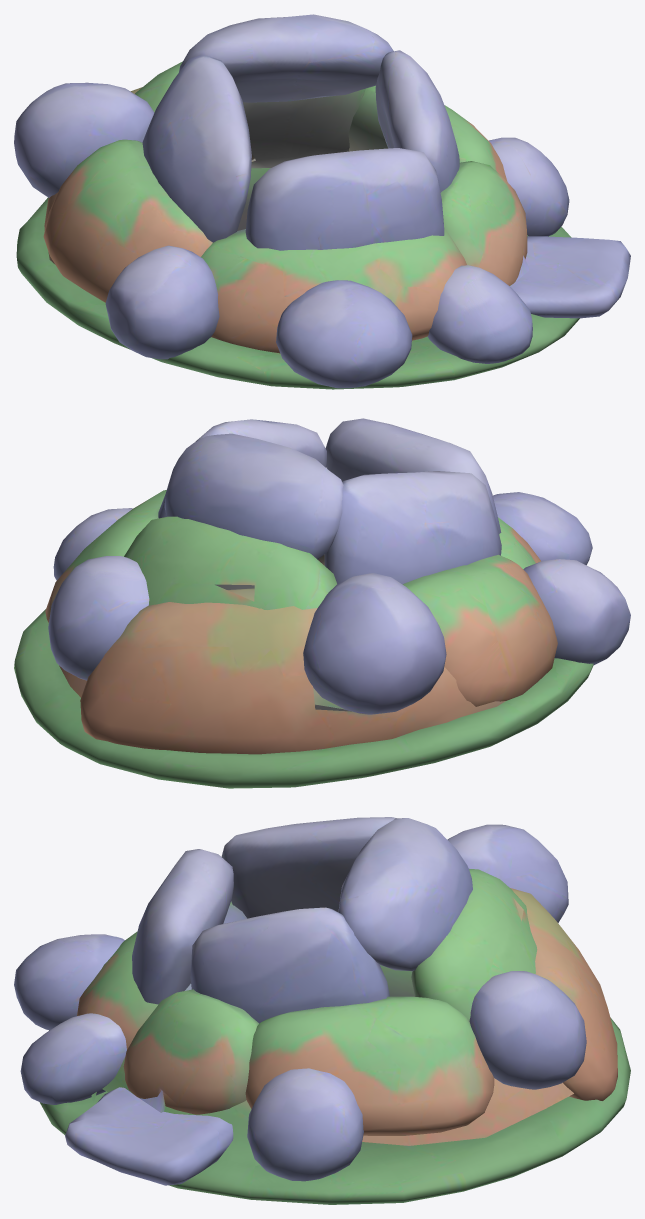
File: brocal_pozo.glb
The picture shows the model from 3 angles, top to bottom: view 1: azimuth 30°, elevation 25°; view 2: azimuth 150°, elevation 25°; view 3: azimuth 270°, elevation 25°; orthographic projection. The views are drawn at different scales.
Visible parts, largest first — view 1: reliquia_2; view 2: reliquia_2; view 3: reliquia_2.
Boxes of the visible parts, left/top/right/bottom form: reliquia_2: left=14, top=14, right=630, bottom=389; reliquia_2: left=14, top=418, right=630, bottom=788; reliquia_2: left=14, top=817, right=630, bottom=1204.
Size of the model in its own units: 0.4526 by 0.2275 by 0.4835.
Materials: 1 (1 with a texture image).
